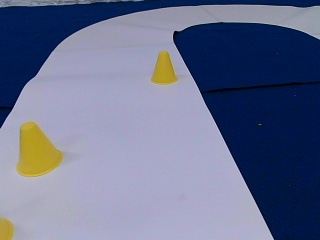cone: (15, 123, 64, 176), (150, 51, 177, 84)
